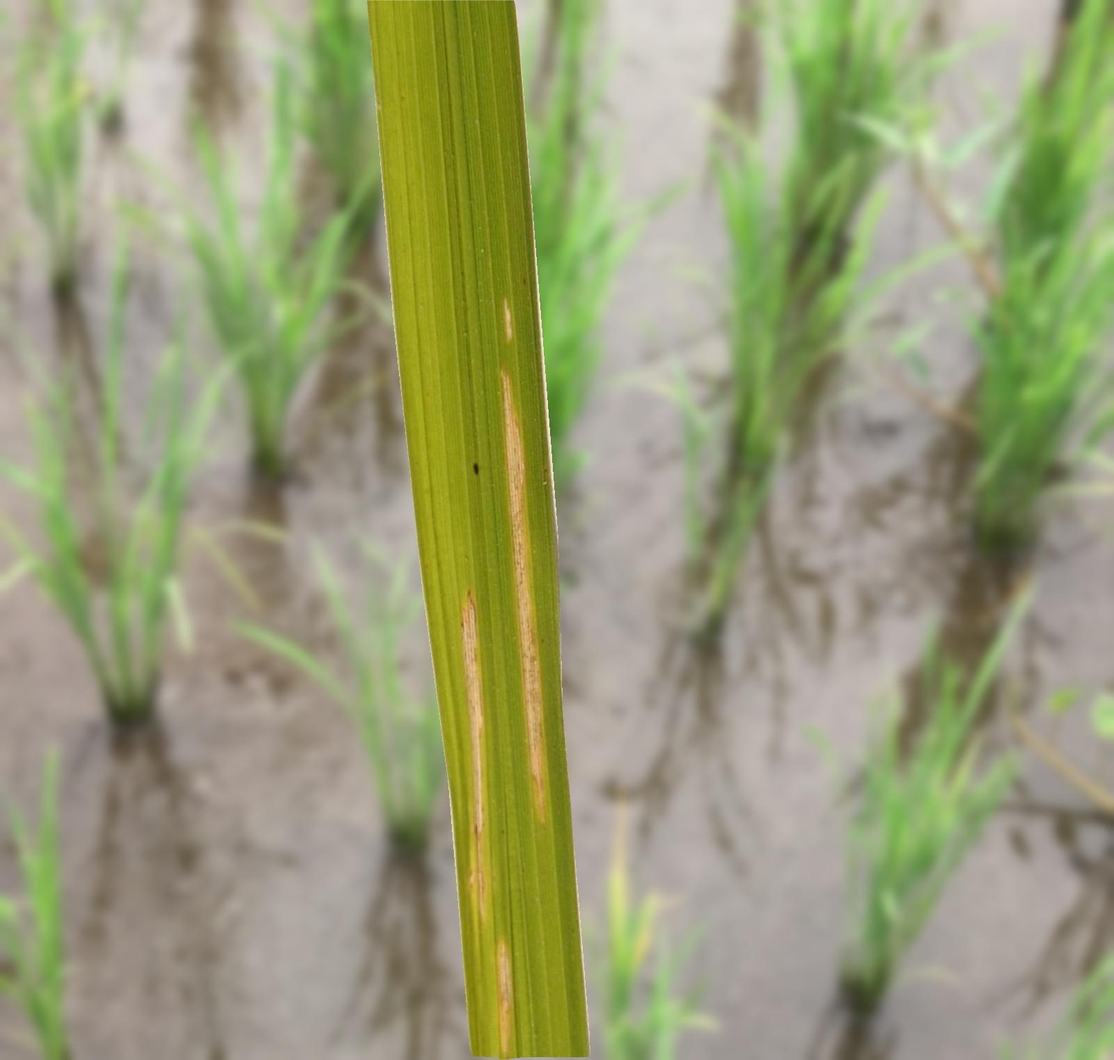BLS: (501, 370, 547, 823), (462, 592, 486, 919)
LEAF: (367, 0, 590, 1059)
